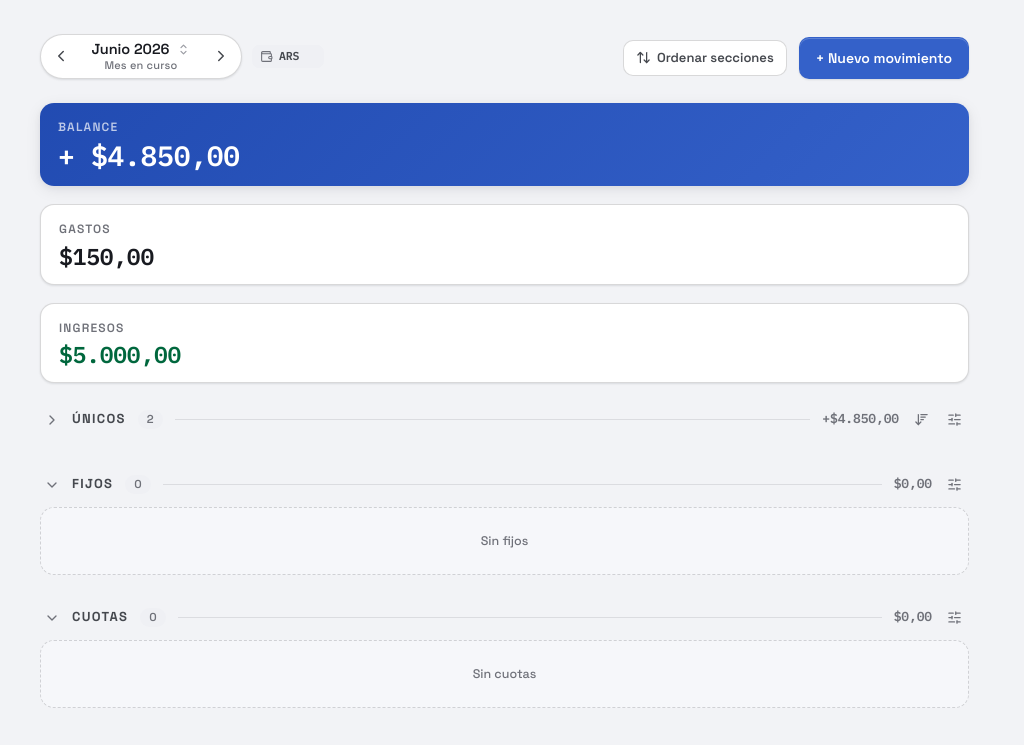
Test: MonthViewClient › Fase 1.1.4 P5 — Acordeón › expandir persiste con setPreferences (quita la clave de collapsed)
Click the button "Únicos 2 +$4.850,00" at x=99, y=419, box [40,410,903,429]
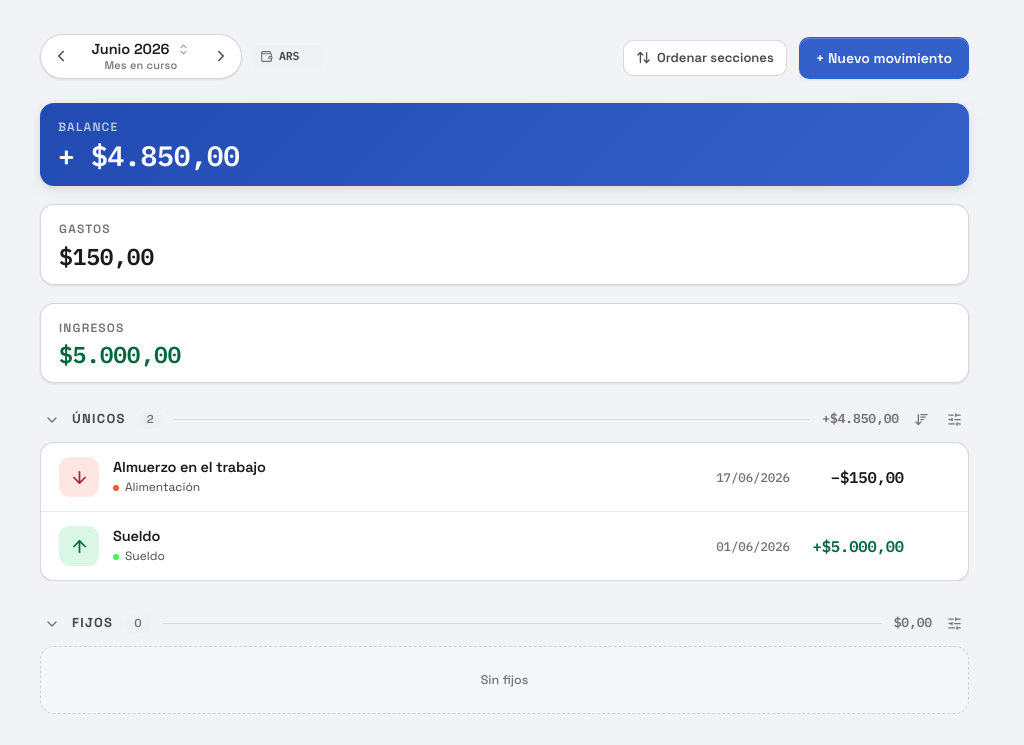
Check: the button "Únicos 2 +$4.850,00" is expanded, box [40,410,903,429]
